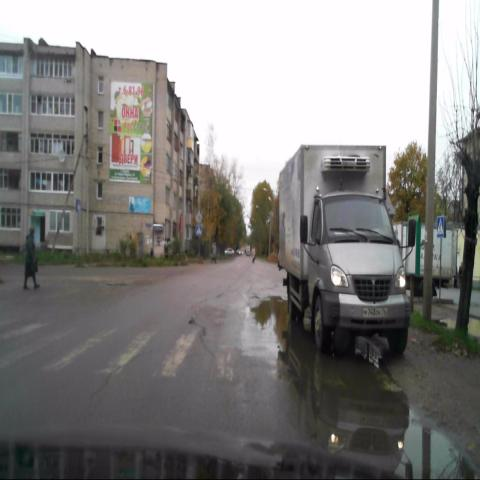5_19_1: (437, 217, 445, 239)
